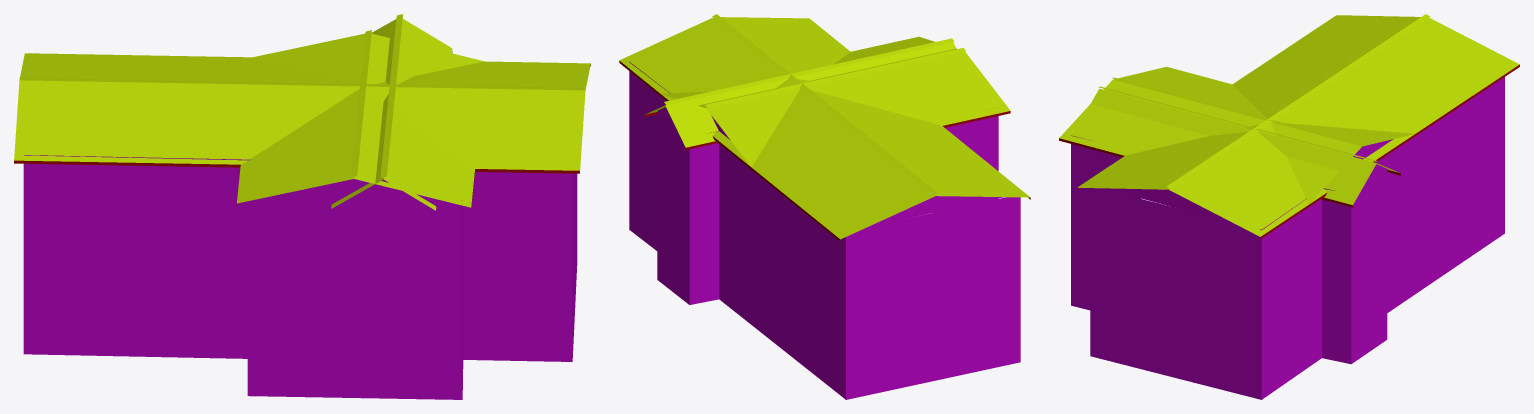
The model's file is rmc_44.glb.
The picture shows the model from 3 angles, left to right: view 1: azimuth 30°, elevation 25°; view 2: azimuth 150°, elevation 25°; view 3: azimuth 270°, elevation 25°; orthographic projection. The views are drawn at different scales.
Visible parts, largest first — view 1: rmc_44; view 2: rmc_44; view 3: rmc_44.
Part boxes in pixels (<box>): rmc_44: <box>14,14,590,399</box>; rmc_44: <box>619,14,1030,399</box>; rmc_44: <box>1059,14,1519,399</box>.
Size of the model in its own units: 22.91 by 9.32 by 20.11.
